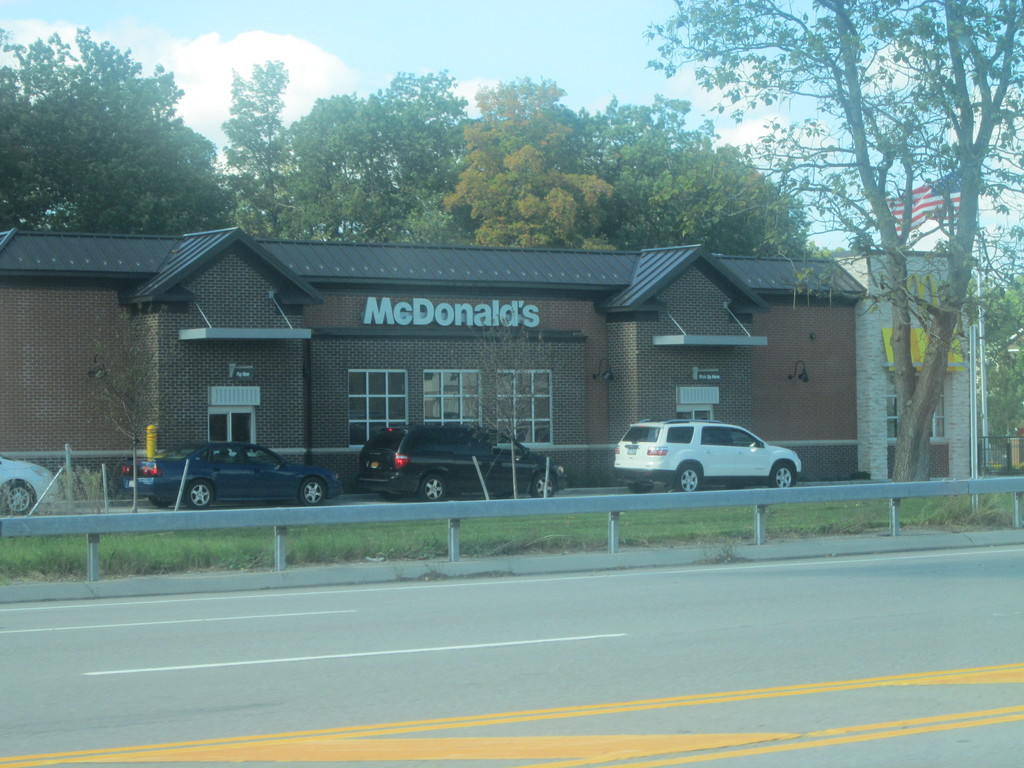Car: (353, 422, 568, 503), (118, 439, 342, 510), (613, 416, 802, 490), (0, 451, 60, 513)
